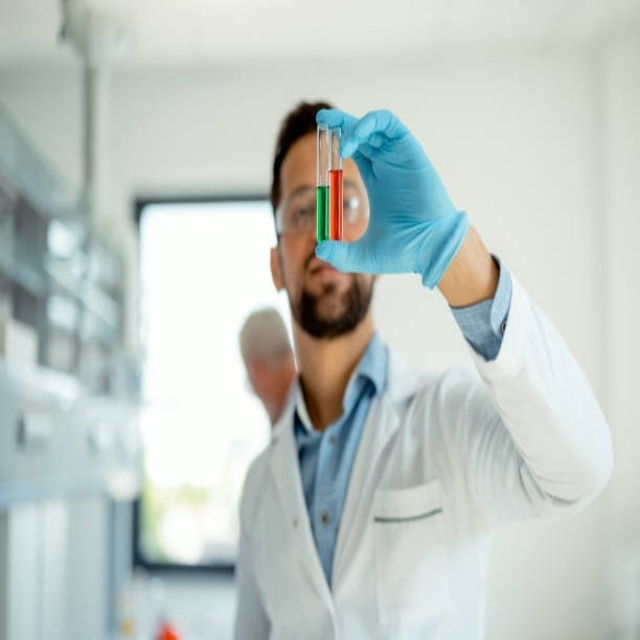Gafas: (274, 183, 370, 240)
Guantes: (308, 108, 470, 290)
Sin_mascara: (303, 254, 338, 306)
